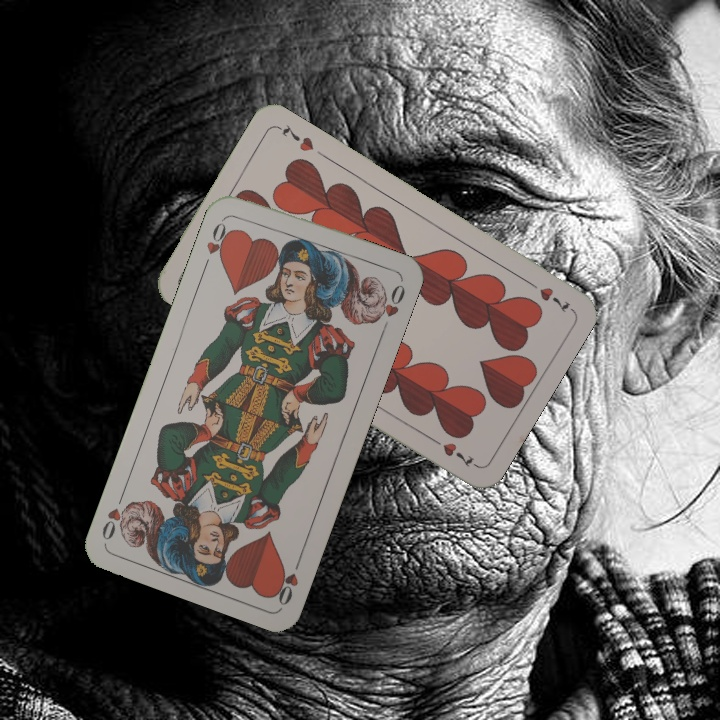H7: (521, 275, 573, 316)
HO: (199, 214, 235, 270), (270, 551, 305, 608)
